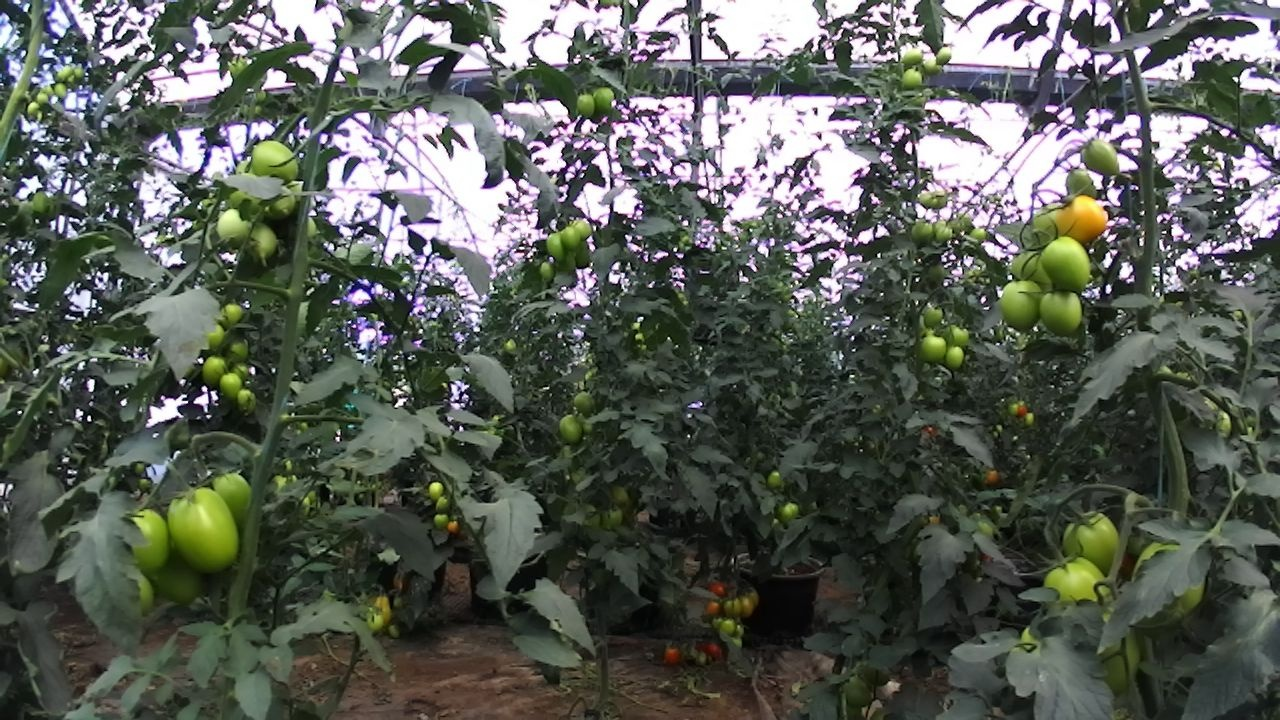tomato: (159, 485, 253, 581), (1047, 494, 1136, 583), (1034, 552, 1120, 621), (113, 500, 186, 578), (987, 270, 1059, 337), (1036, 236, 1103, 297), (1004, 239, 1067, 300), (1029, 284, 1093, 340), (244, 134, 304, 190), (1055, 190, 1117, 243), (237, 213, 289, 271), (1073, 134, 1126, 176), (213, 201, 256, 252), (1060, 163, 1103, 203), (594, 498, 629, 539), (216, 295, 251, 334), (583, 80, 618, 118), (917, 329, 951, 368), (555, 410, 589, 448), (222, 331, 256, 367), (198, 350, 230, 388), (539, 227, 571, 264), (552, 222, 589, 253), (570, 86, 600, 124), (918, 301, 952, 333), (904, 218, 937, 248), (371, 590, 395, 630), (895, 65, 926, 95), (215, 368, 244, 400), (569, 236, 595, 271), (932, 39, 958, 74), (941, 342, 969, 374), (899, 44, 929, 73), (232, 385, 260, 415), (567, 388, 597, 415), (568, 214, 595, 243), (776, 498, 803, 525), (361, 608, 388, 634), (914, 186, 941, 212), (932, 216, 957, 244), (966, 223, 992, 249), (424, 477, 449, 504), (701, 593, 725, 621), (764, 465, 788, 492), (534, 257, 558, 283), (722, 593, 746, 617), (716, 615, 740, 638), (56, 61, 76, 85), (51, 80, 71, 102), (429, 511, 451, 531), (661, 645, 683, 664), (738, 595, 757, 617), (433, 493, 452, 514), (24, 97, 43, 117), (71, 63, 89, 84), (1004, 399, 1022, 418), (33, 89, 52, 107), (445, 517, 462, 536), (1021, 409, 1037, 428)
